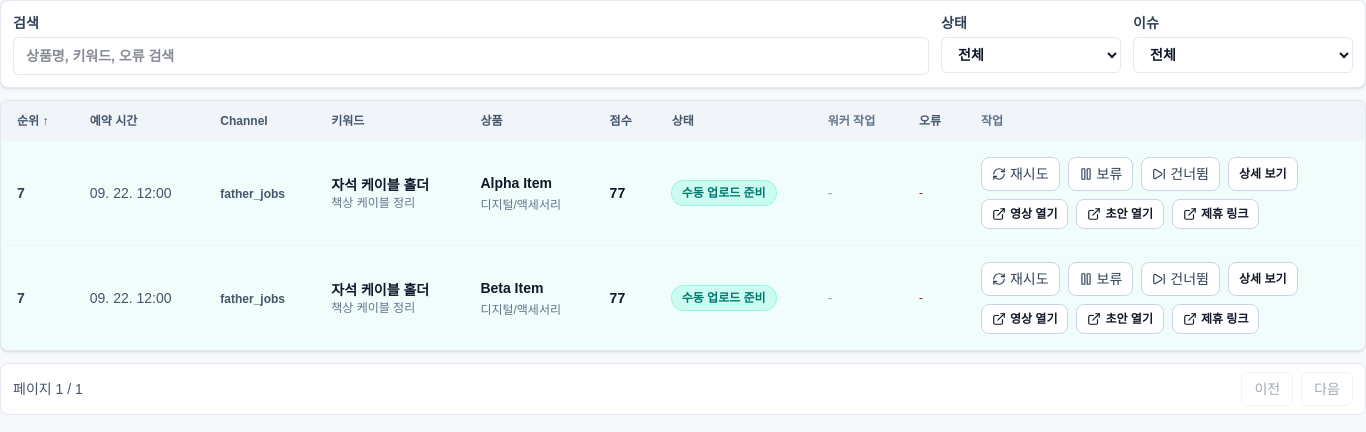
Test case: TanStack table upgrades › filters queue table by product search
Type "Alpha" into the field with placeholder "상품명, 키워드, 오류 검색".
click(471, 56); type("Alpha")  # box left=13, top=37, right=929, bottom=75
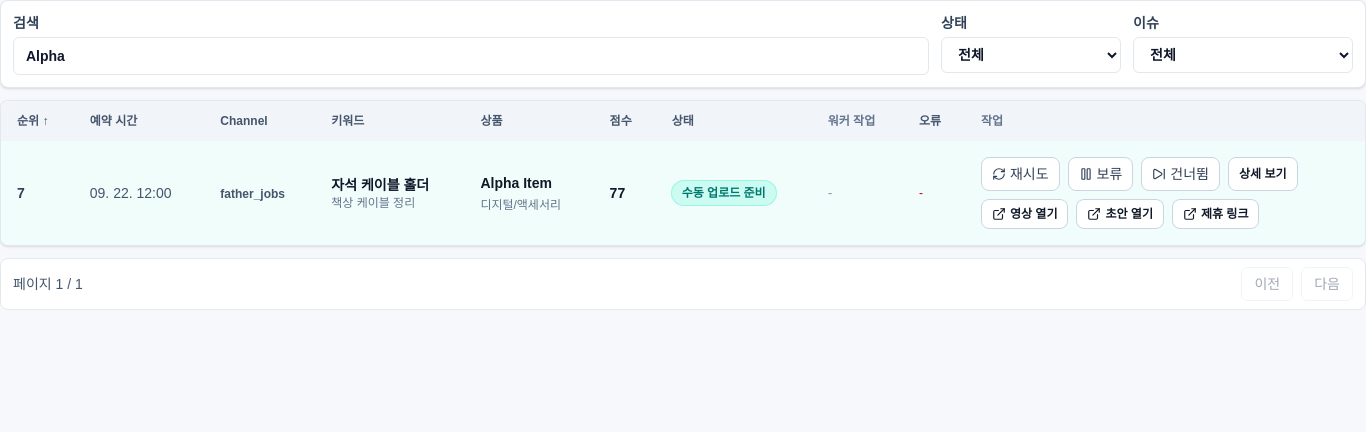
Expected: the link "Alpha Item" is shown, left=480, top=175, right=552, bottom=191
Result: the link "Beta Item" is gone
